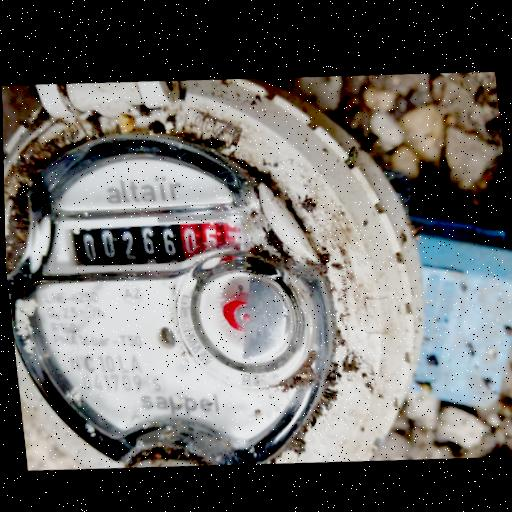0: (79, 228, 100, 266), (98, 227, 118, 266), (181, 223, 201, 261)
2: (118, 226, 138, 265)
5: (200, 222, 220, 256)
6: (158, 224, 179, 263), (139, 225, 159, 265)
7: (223, 220, 243, 252)
border_water_meter_number: (38, 201, 250, 288)
